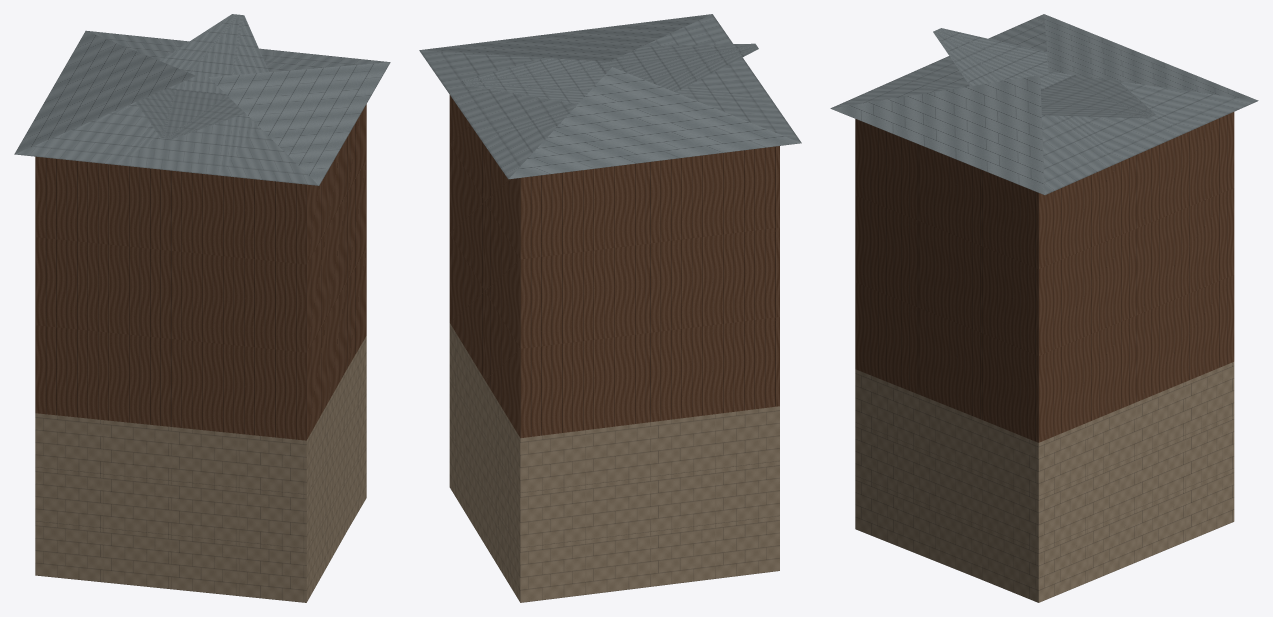
Rendered from bld_c9_9_495.gltf.
3 renders of one model, left to right at view 1: azimuth 30°, elevation 25°; view 2: azimuth 150°, elevation 25°; view 3: azimuth 270°, elevation 25°, orthographic. The views are drawn at different scales.
Parts seen in each view (by area): view 1: bld_c9_9_495; view 2: bld_c9_9_495; view 3: bld_c9_9_495.
Part boxes in pixels (left/top/right/bottom): bld_c9_9_495: left=14, top=14, right=390, bottom=602; bld_c9_9_495: left=419, top=14, right=801, bottom=602; bld_c9_9_495: left=830, top=14, right=1258, bottom=602.
Size of the model in its own units: 12.39 by 14.4 by 12.38.
3 materials, 3 textured.
